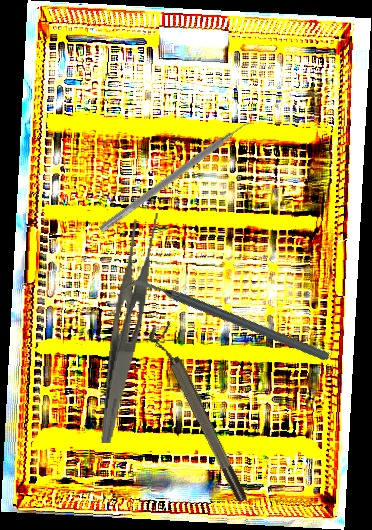Chopper: (121, 215, 332, 426)
Dressing Forceps: (99, 209, 163, 447)
Fixation Ring: (144, 319, 252, 509)
Spatula Surgical: (98, 114, 258, 241)
